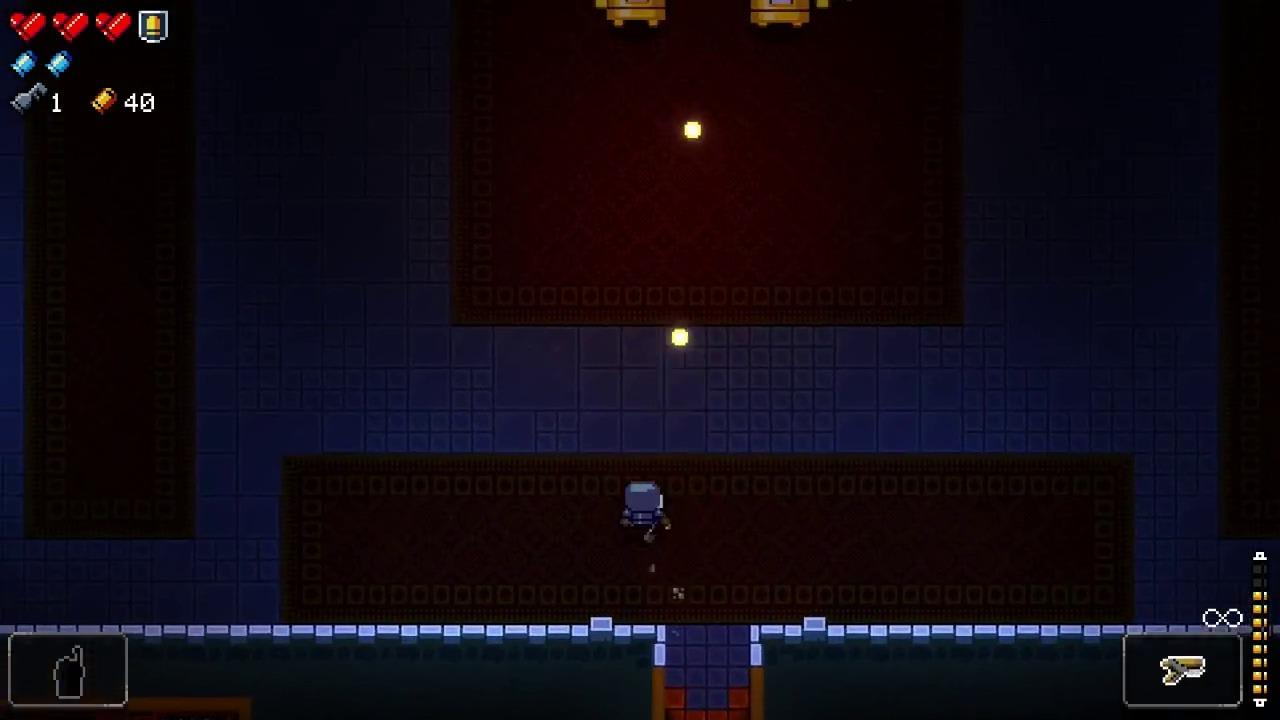player: (623, 480, 664, 527)
